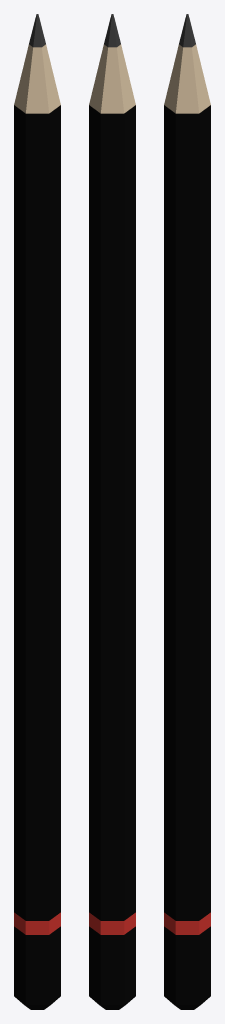
The model's file is Pencil.fbx.
The picture shows the model from 3 angles, left to right: view 1: azimuth 90°, elevation 25°; view 2: azimuth 210°, elevation 25°; view 3: azimuth 270°, elevation 25°; orthographic projection.
Parts seen in each view (by area): view 1: Pencil; view 2: Pencil; view 3: Pencil.
Part boxes in pixels (<box>): Pencil: <box>14,14,60,1009</box>; Pencil: <box>89,14,135,1009</box>; Pencil: <box>164,14,210,1009</box>.
Bounding box in the file's own units: 2.45 × 65.9 × 2.83.
